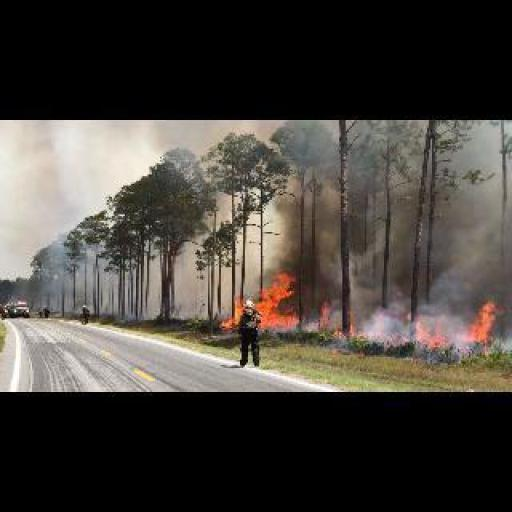smoke: (254, 272, 308, 328), (465, 290, 499, 354), (219, 298, 243, 326)
